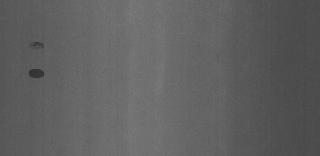oil spot: (27, 66, 47, 80), (28, 40, 46, 50)
